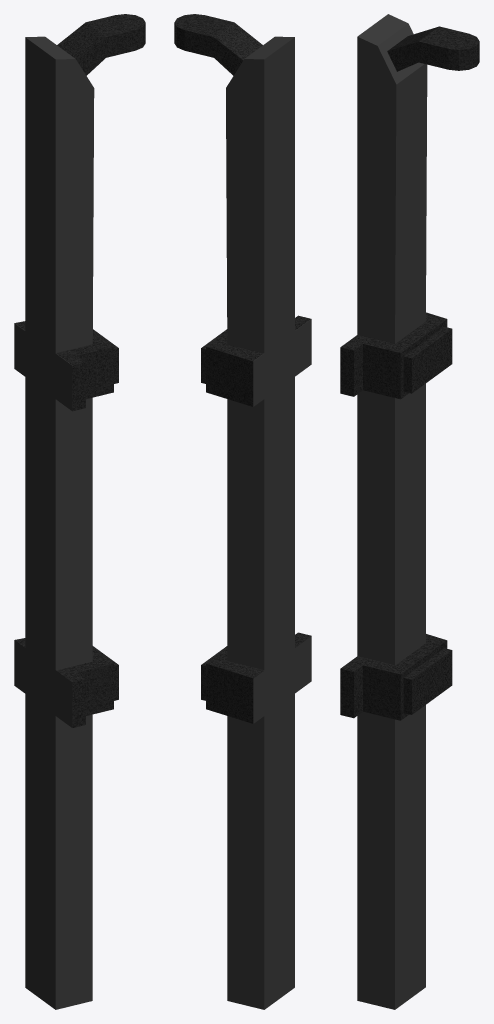
File: blocker_b1_edgePole_MESH.fbx
3 views of the same model, side by side, from view 1: azimuth 30°, elevation 25°; view 2: azimuth 150°, elevation 25°; view 3: azimuth 330°, elevation 25° (orthographic).
Parts seen in each view (by area): view 1: blocker_b1_edgePole_MESH; view 2: blocker_b1_edgePole_MESH; view 3: blocker_b1_edgePole_MESH.
Boxes of the visible parts, box(x1,y1,x2,y2) form: blocker_b1_edgePole_MESH: box(14, 14, 145, 1009); blocker_b1_edgePole_MESH: box(174, 14, 311, 1009); blocker_b1_edgePole_MESH: box(340, 14, 479, 1009).
Bounding box in the file's own units: 687 × 675 × 6114.
